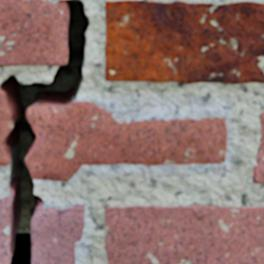brick: (105, 1, 263, 83), (105, 205, 263, 263), (0, 0, 67, 65), (252, 110, 263, 182)
broken_brick: (25, 101, 226, 180), (31, 203, 84, 263), (0, 192, 13, 263), (0, 89, 12, 165)
crack: (0, 0, 90, 263)
